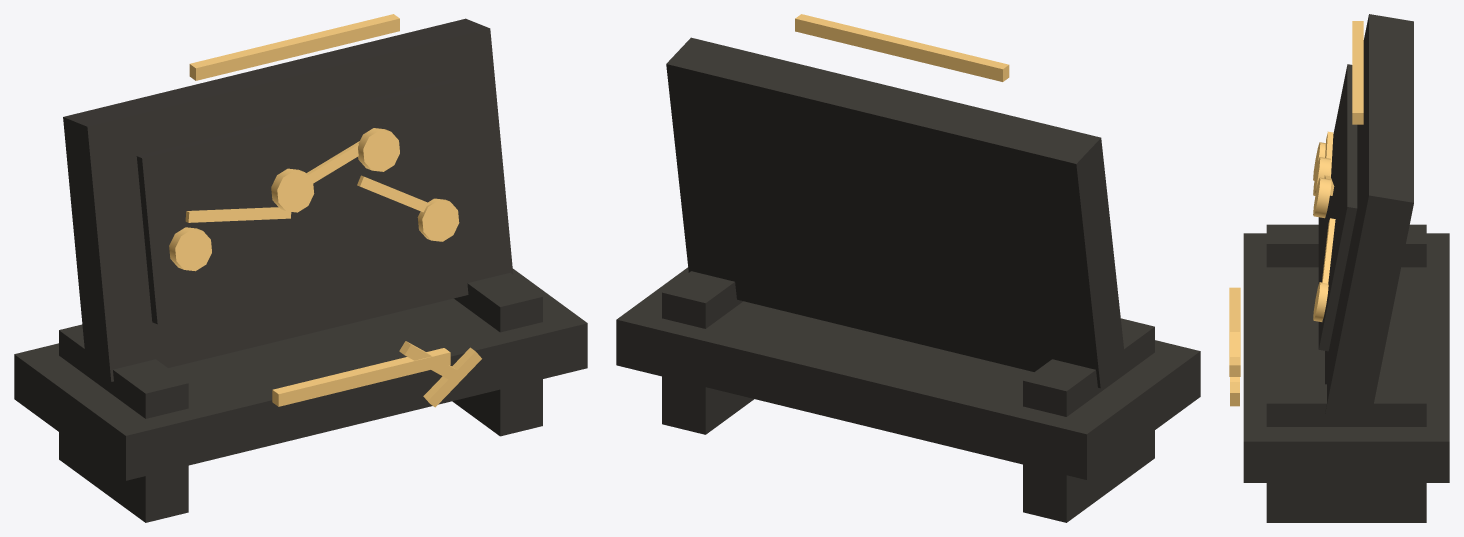
Rendered from exhibit-welcome-console.v1.glb.
3 views of the same model, side by side, from view 1: azimuth 30°, elevation 25°; view 2: azimuth 150°, elevation 25°; view 3: azimuth 270°, elevation 25° (orthographic). The views are drawn at different scales.
Parts seen in each view (by area): view 1: WelcomeConsoleStructure, WelcomeConsoleGuide; view 2: WelcomeConsoleStructure, WelcomeConsoleGuide; view 3: WelcomeConsoleStructure, WelcomeConsoleGuide.
Boxes of the visible parts, x1=… form: WelcomeConsoleStructure: x1=14, y1=18, x2=587, y2=522; WelcomeConsoleGuide: x1=169, y1=14, x2=481, y2=407; WelcomeConsoleStructure: x1=616, y1=37, x2=1200, y2=522; WelcomeConsoleGuide: x1=795, y1=14, x2=1009, y2=81; WelcomeConsoleStructure: x1=1243, y1=14, x2=1449, y2=522; WelcomeConsoleGuide: x1=1229, y1=21, x2=1363, y2=406.
Bounding box in the file's own units: 1.72 × 1.41 × 0.77.
